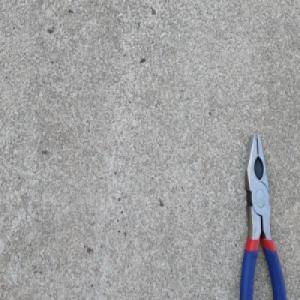Pliers: (237, 130, 287, 300)
